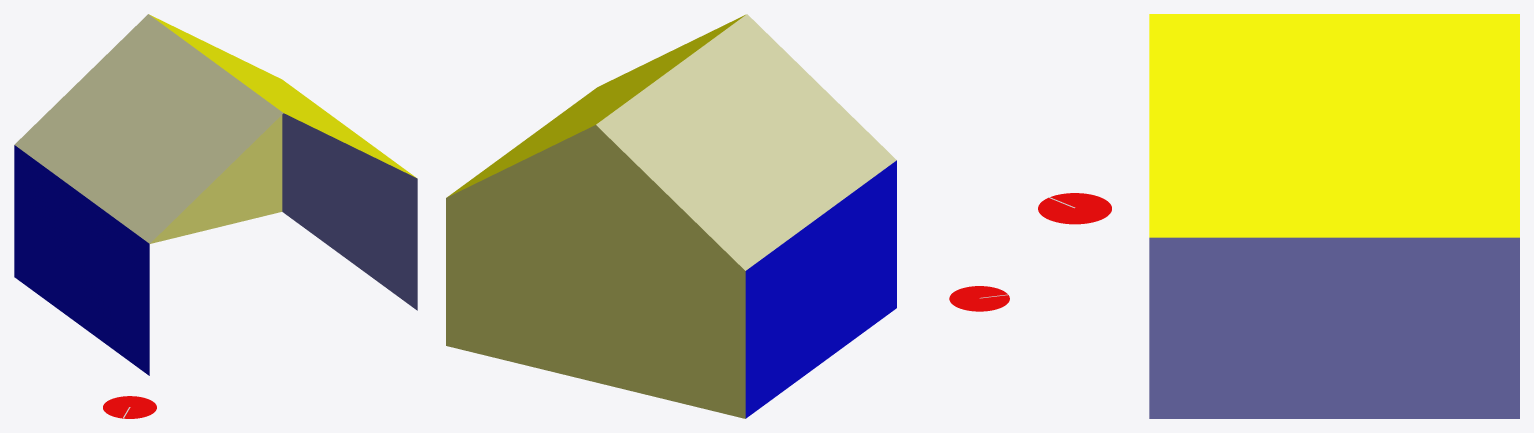
The model's file is result.glb.
3 views of the same model, side by side, from view 1: azimuth 30°, elevation 25°; view 2: azimuth 150°, elevation 25°; view 3: azimuth 270°, elevation 25° (orthographic). The views are drawn at different scales.
Visible parts, largest first — view 1: 1e236ed5-903f-4a59-8684-dc2bfb81a0aa__undefined, 6f9cac75-c328-483a-b020-2482b184f3cb__undefined, d7125e47-b71f-4e1a-9c2d-8e452f6fa96b__undefined, 496591f0-4c34-458c-a3b9-e6d964ccd05c__undefined, 621b3c50-17a9-42d2-8606-d9e82c8429a7__undefined, be01ba42-df05-4d1a-8216-a4ee07f2d485__Circle; view 2: 496591f0-4c34-458c-a3b9-e6d964ccd05c__undefined, 1e236ed5-903f-4a59-8684-dc2bfb81a0aa__undefined, 6f9cac75-c328-483a-b020-2482b184f3cb__undefined, 621b3c50-17a9-42d2-8606-d9e82c8429a7__undefined, be01ba42-df05-4d1a-8216-a4ee07f2d485__Circle; view 3: 621b3c50-17a9-42d2-8606-d9e82c8429a7__undefined, d7125e47-b71f-4e1a-9c2d-8e452f6fa96b__undefined, be01ba42-df05-4d1a-8216-a4ee07f2d485__Circle.
Boxes of the visible parts, left/top/right/bottom form: 1e236ed5-903f-4a59-8684-dc2bfb81a0aa__undefined: left=14, top=14, right=283, bottom=243; 6f9cac75-c328-483a-b020-2482b184f3cb__undefined: left=14, top=145, right=149, bottom=375; d7125e47-b71f-4e1a-9c2d-8e452f6fa96b__undefined: left=282, top=113, right=417, bottom=310; 496591f0-4c34-458c-a3b9-e6d964ccd05c__undefined: left=150, top=115, right=282, bottom=243; 621b3c50-17a9-42d2-8606-d9e82c8429a7__undefined: left=149, top=14, right=416, bottom=177; be01ba42-df05-4d1a-8216-a4ee07f2d485__Circle: left=103, top=396, right=156, bottom=418; 496591f0-4c34-458c-a3b9-e6d964ccd05c__undefined: left=446, top=125, right=745, bottom=418; 1e236ed5-903f-4a59-8684-dc2bfb81a0aa__undefined: left=596, top=14, right=896, bottom=270; 6f9cac75-c328-483a-b020-2482b184f3cb__undefined: left=745, top=160, right=896, bottom=418; 621b3c50-17a9-42d2-8606-d9e82c8429a7__undefined: left=448, top=14, right=745, bottom=196; be01ba42-df05-4d1a-8216-a4ee07f2d485__Circle: left=949, top=286, right=1009, bottom=311; 621b3c50-17a9-42d2-8606-d9e82c8429a7__undefined: left=1149, top=14, right=1519, bottom=237; d7125e47-b71f-4e1a-9c2d-8e452f6fa96b__undefined: left=1149, top=237, right=1519, bottom=418; be01ba42-df05-4d1a-8216-a4ee07f2d485__Circle: left=1038, top=193, right=1111, bottom=224.
Bounding box in the file's own units: 721 × 469 × 650.
